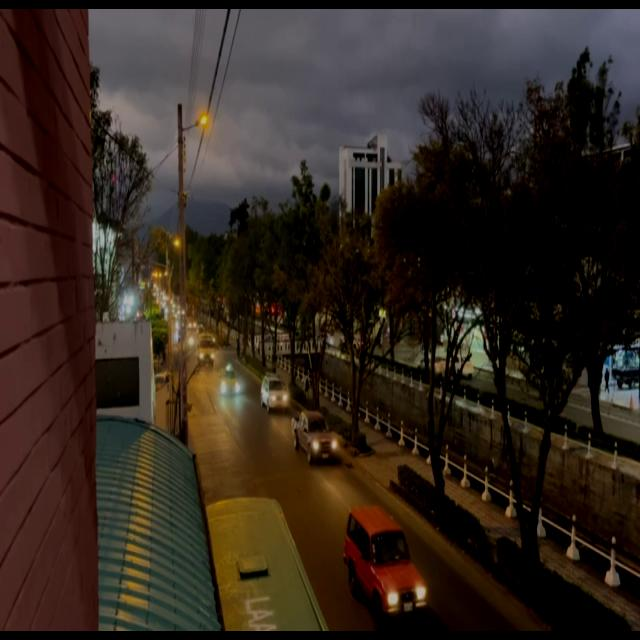CMT: (294, 414, 336, 463)
SED: (219, 371, 240, 394)
SUV: (347, 513, 423, 629), (262, 376, 288, 410)
TRUCK: (198, 332, 214, 367)
